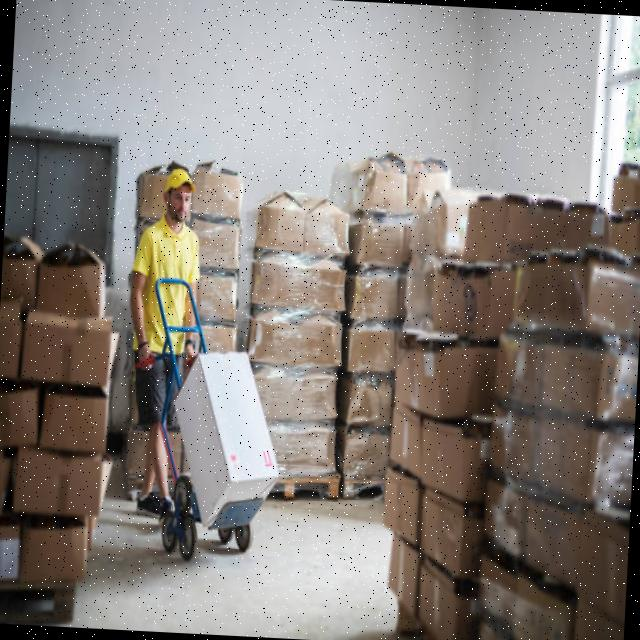Wooden-Pallets: (267, 466, 346, 512)
